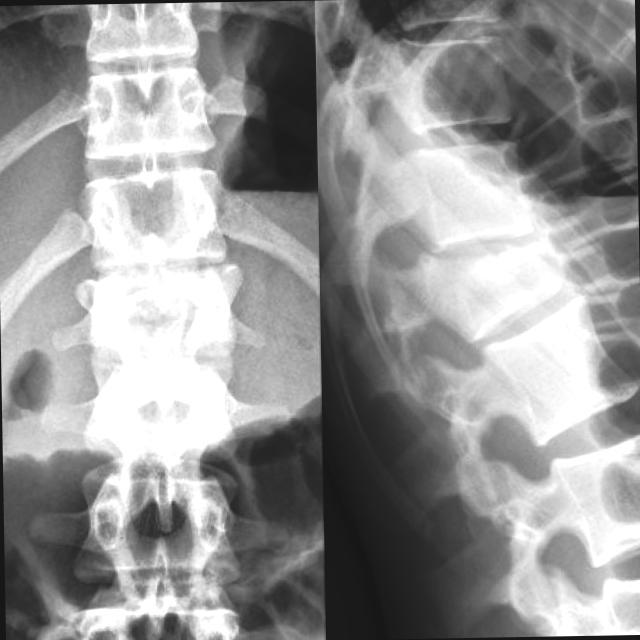Compression-Crush Fracutre: (394, 236, 576, 323), (70, 271, 231, 355)
